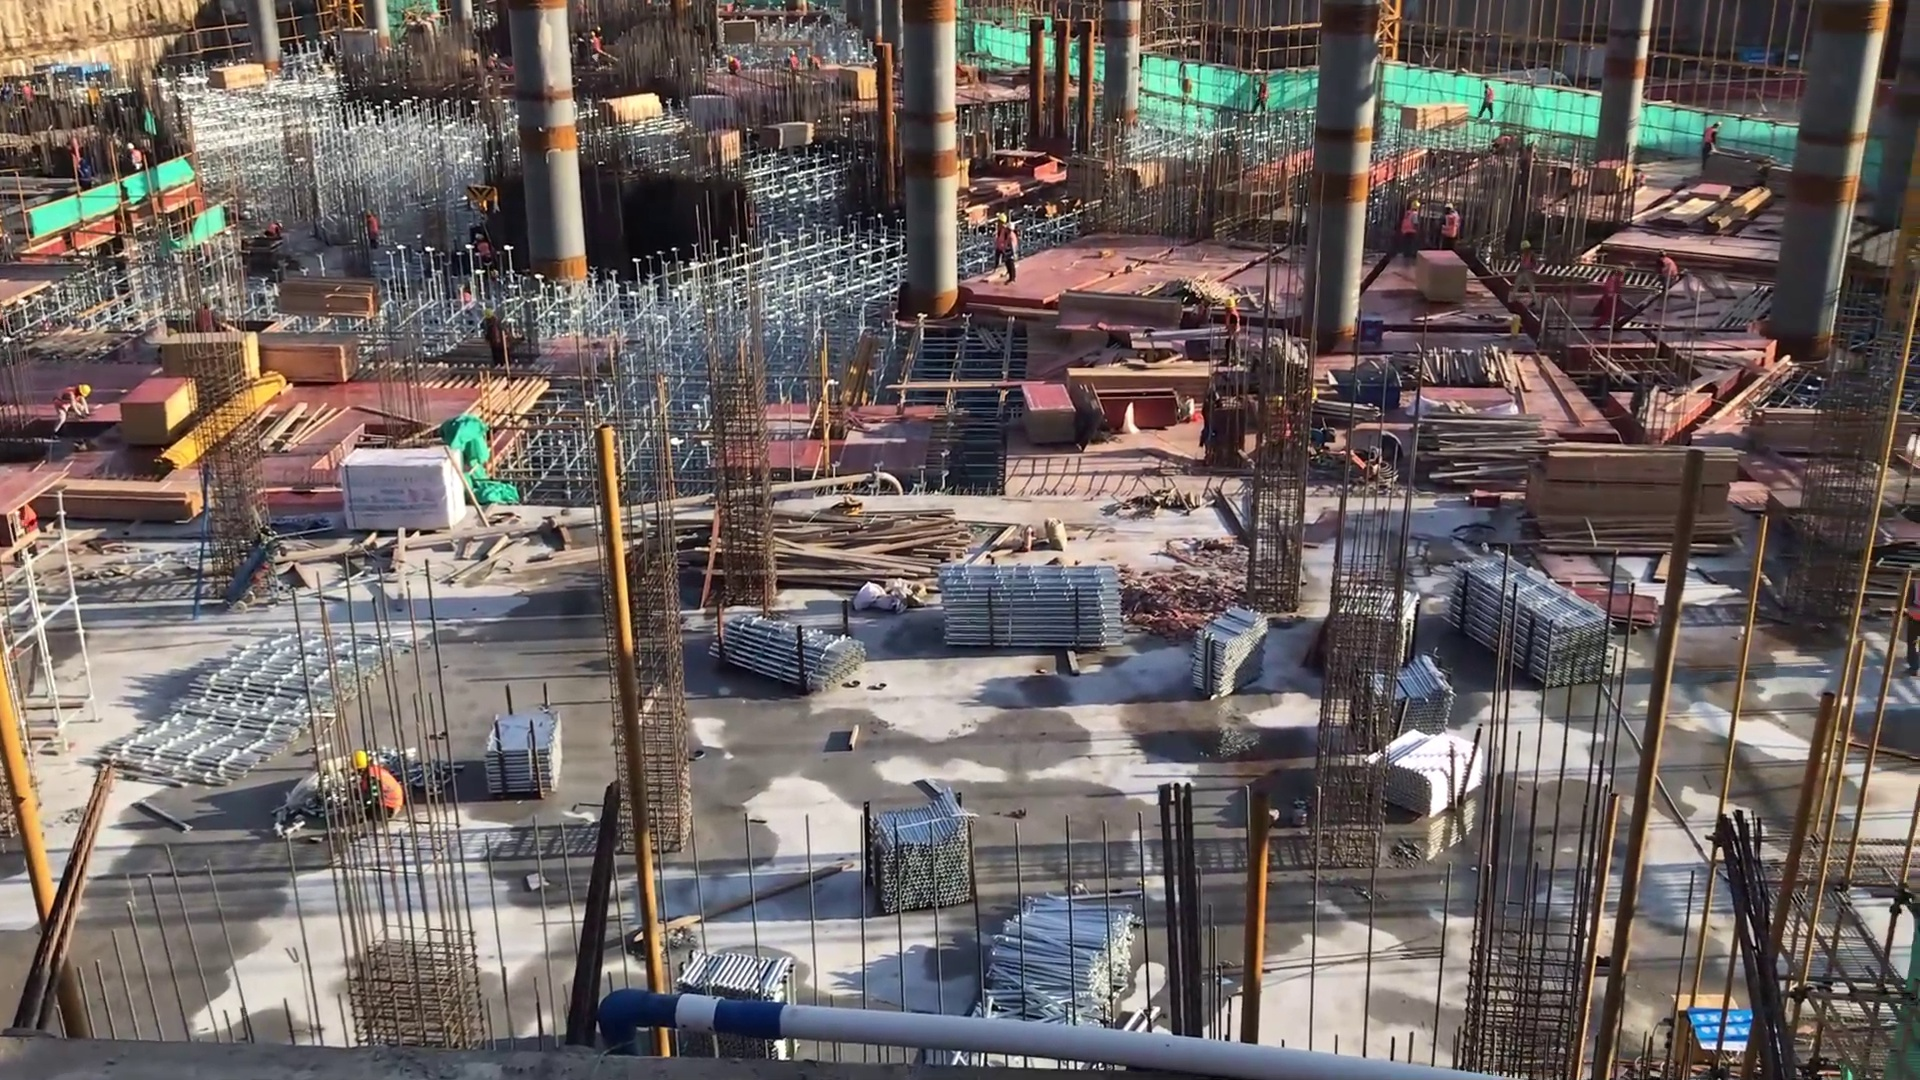helmet: (353, 747, 376, 776), (1221, 294, 1238, 315), (1517, 238, 1532, 253), (1409, 198, 1423, 211), (77, 384, 90, 397), (1443, 202, 1456, 215), (77, 156, 88, 168), (1006, 222, 1018, 234), (995, 213, 1008, 225), (474, 232, 487, 243), (126, 142, 137, 154)
person: (352, 743, 410, 833), (1505, 233, 1546, 308), (1597, 260, 1631, 346), (52, 380, 95, 438), (1400, 193, 1428, 273), (1219, 294, 1245, 372), (1698, 114, 1730, 177), (14, 495, 42, 566), (480, 305, 509, 364), (1439, 198, 1465, 254), (1657, 244, 1682, 300), (990, 210, 1011, 276), (360, 205, 385, 256), (1005, 216, 1023, 284), (1251, 77, 1274, 123), (472, 232, 496, 275), (77, 154, 97, 201), (1479, 76, 1498, 129), (123, 140, 147, 176), (266, 210, 284, 253), (723, 48, 745, 78), (587, 26, 602, 65), (784, 50, 805, 81), (484, 45, 502, 76), (806, 47, 824, 74)
vest: (369, 762, 408, 821), (52, 385, 80, 414), (1223, 308, 1243, 339), (1602, 273, 1624, 299), (1441, 212, 1460, 243), (1004, 232, 1020, 263), (1403, 208, 1420, 239), (77, 164, 96, 186), (1661, 257, 1678, 282)
